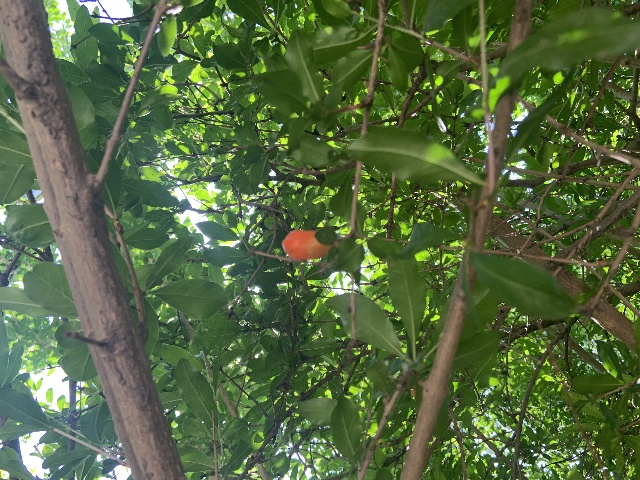bud: (282, 230, 333, 260)
